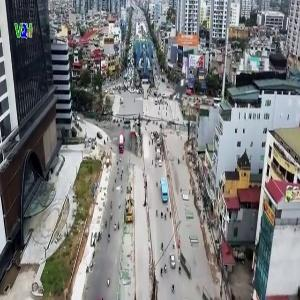drone: (145, 52, 224, 131)
